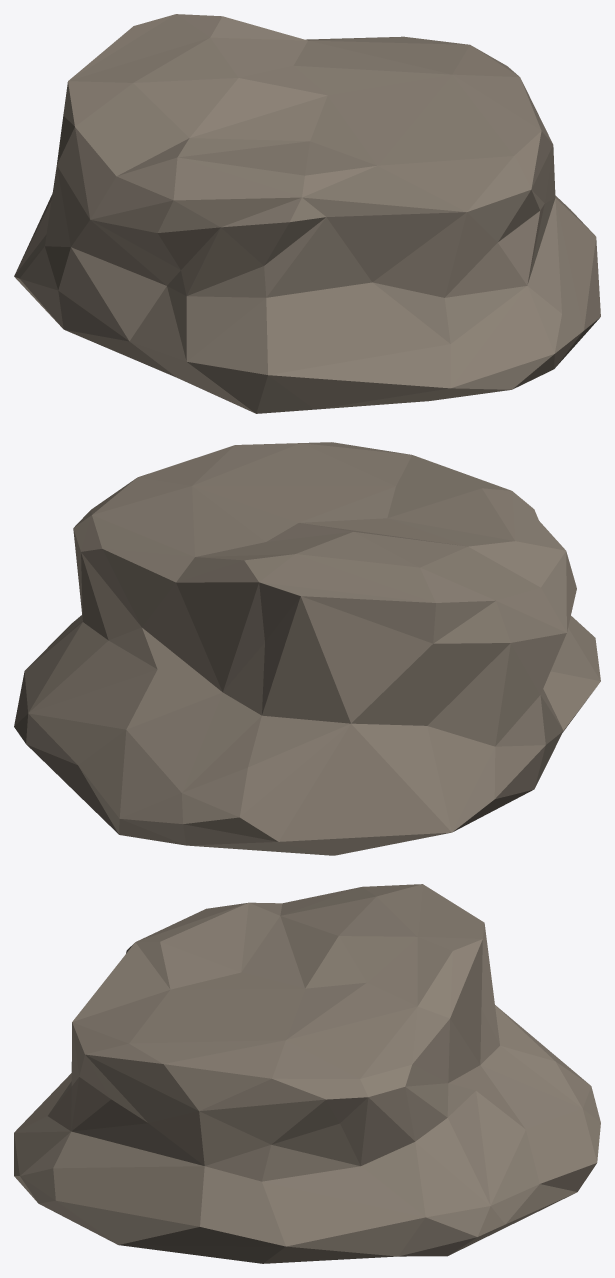
Rendered from SM_Env_Rock_04.fbx.
3 renders of one model, top to bottom at view 1: azimuth 30°, elevation 25°; view 2: azimuth 150°, elevation 25°; view 3: azimuth 270°, elevation 25°, orthographic. The views are drawn at different scales.
Parts seen in each view (by area): view 1: SM_Env_Rock_04; view 2: SM_Env_Rock_04; view 3: SM_Env_Rock_04.
Boxes of the visible parts, x1=… form: SM_Env_Rock_04: x1=14, y1=14, x2=600, y2=413; SM_Env_Rock_04: x1=14, y1=442, x2=600, y2=855; SM_Env_Rock_04: x1=14, y1=884, x2=600, y2=1263.
Size of the model in its own units: 413 by 199 by 462.
